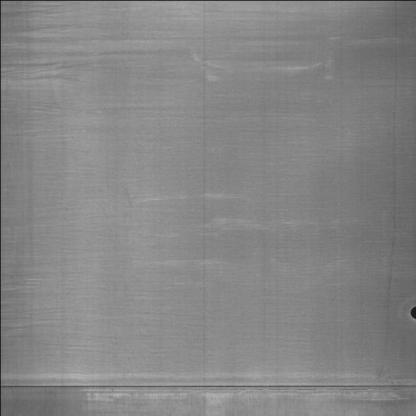punching_hole: (411, 298, 416, 334)
welding_line: (0, 365, 416, 395)
